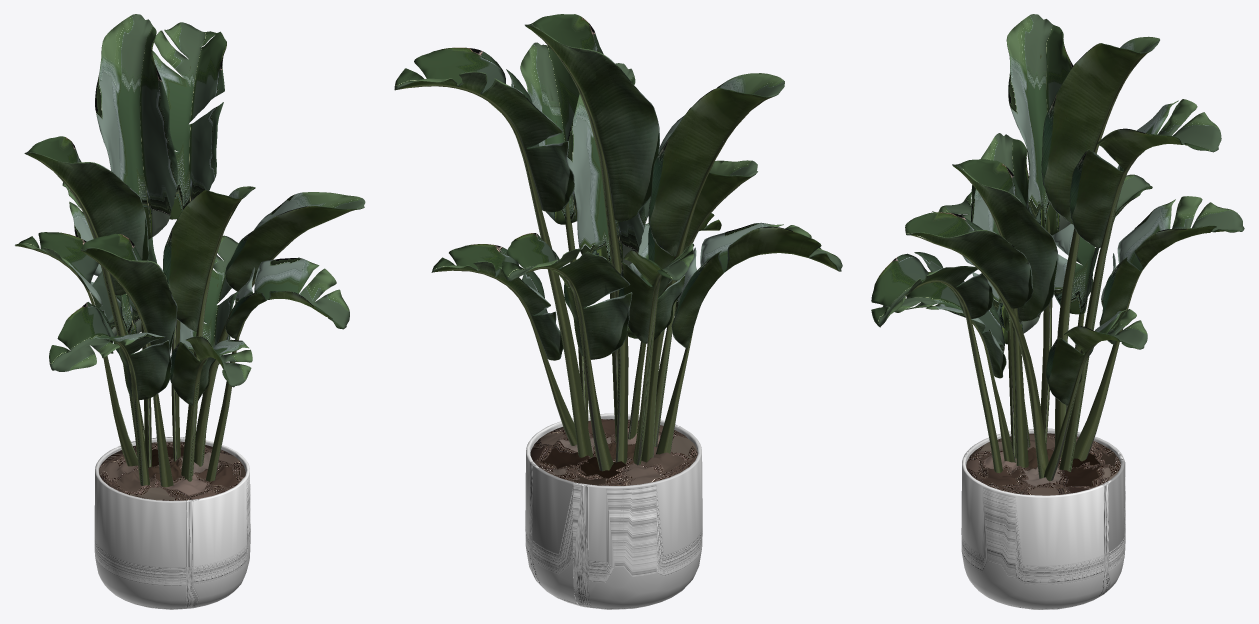
The model's file is banana_plant_with_pot-transformed.glb.
3 renders of one model, left to right at view 1: azimuth 30°, elevation 25°; view 2: azimuth 150°, elevation 25°; view 3: azimuth 270°, elevation 25°, orthographic. The views are drawn at different scales.
Visible parts, largest first — view 1: Object_9, Object_8, Object_5, Object_10, Object_6; view 2: Object_8, Object_9, Object_5, Object_10, Object_6; view 3: Object_9, Object_8, Object_5, Object_10, Object_6.
Part boxes in pixels (box(x1,y1,x2,y2)): Object_9: box(15, 14, 365, 404); Object_8: box(15, 40, 356, 405); Object_5: box(94, 437, 250, 609); Object_10: box(19, 66, 354, 487); Object_6: box(99, 441, 245, 500); Object_8: box(397, 25, 837, 360); Object_9: box(394, 14, 842, 359); Object_5: box(525, 413, 702, 609); Object_10: box(398, 31, 837, 471); Object_6: box(530, 419, 697, 486); Object_9: box(871, 14, 1244, 403); Object_8: box(906, 43, 1226, 404); Object_5: box(961, 428, 1125, 609); Object_10: box(905, 53, 1149, 481); Object_6: box(966, 433, 1120, 495).
Size of the model in its own units: 1.08 by 1.88 by 1.14.
Materials: 5 (5 with a texture image).
